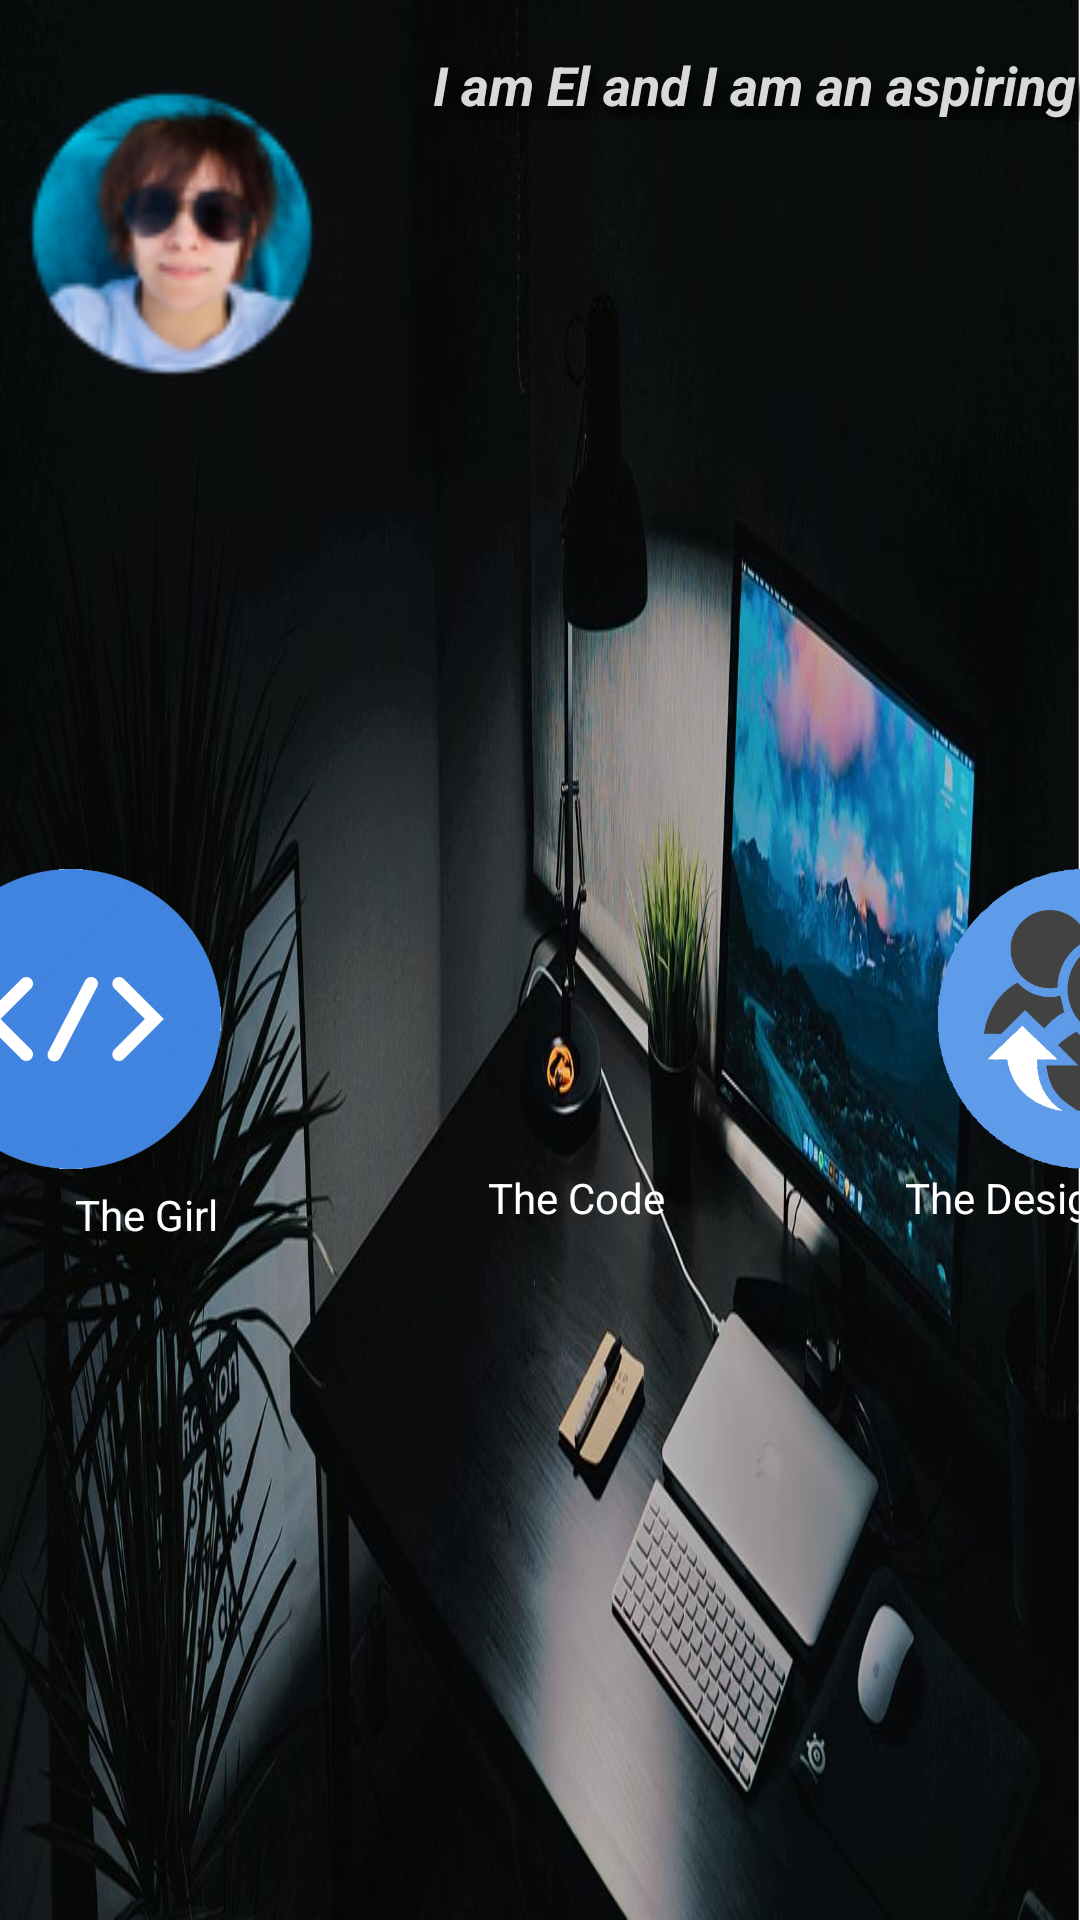

Named icons in this screenshot (1080×1920) and their centers, [x,y]:
person: [172,233]
